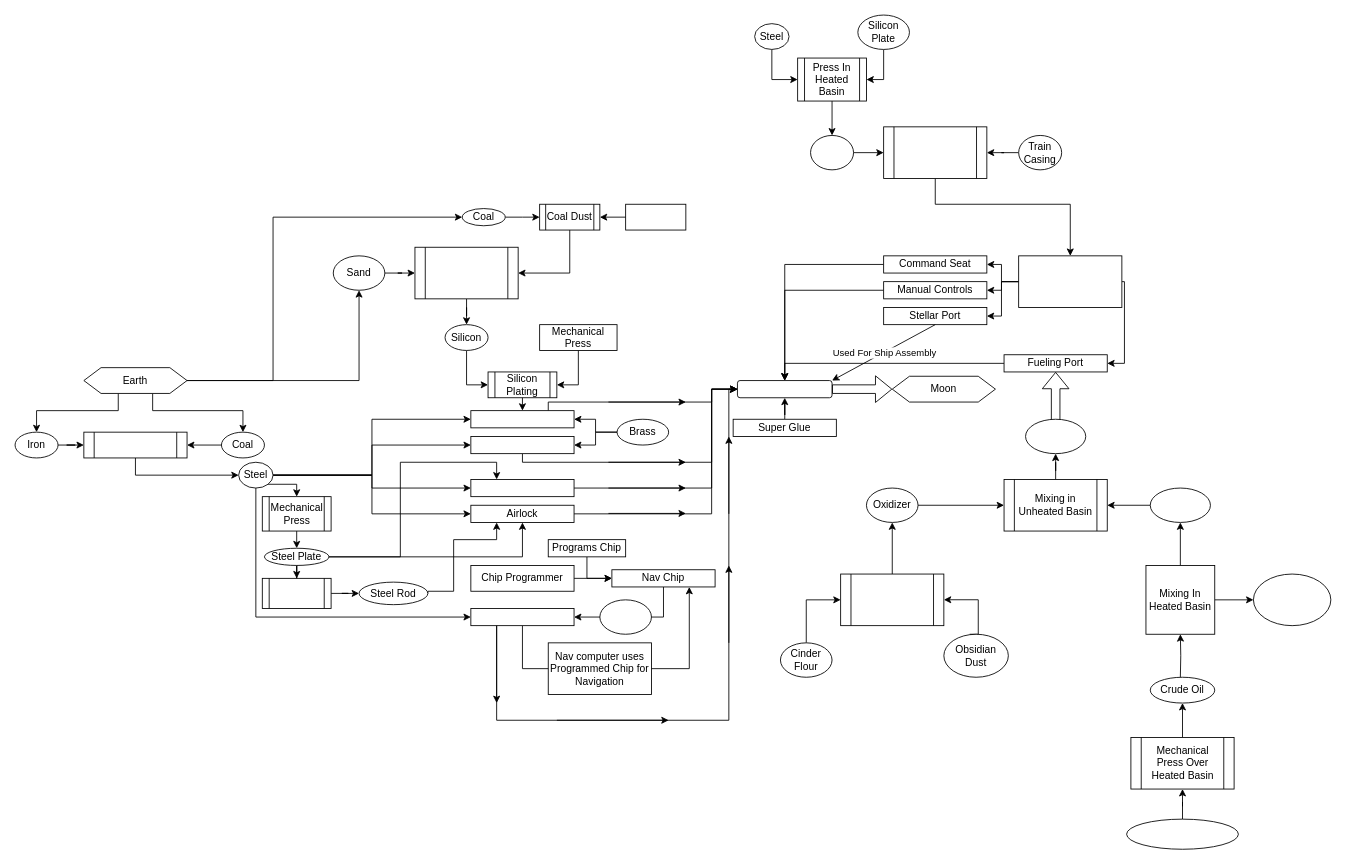
Some shapes in this 1346 by 864 pixel diagram are drawn without their labels. Each missing label, with the box of its shape:
Bone Meal or Bones: (1126, 818, 1238, 849)
Crushing Wheels: (625, 203, 686, 230)
First Ship: (737, 380, 832, 398)
Fuel Tanks: (470, 436, 574, 454)
Landing Gear: (470, 479, 574, 497)
Manual Application / Deployer: (883, 126, 987, 178)
Mechanical Saw: (261, 577, 331, 608)
Mix in Basin: (840, 573, 944, 626)
Mix In Heated Basin: (83, 431, 187, 458)
Mix In Heated Mechanical Mixer: (414, 246, 518, 299)
Nav. Computer: (470, 608, 574, 626)
Petroleum: (1149, 487, 1210, 522)
Pure Oil (Useful Later): (1253, 573, 1331, 626)
Rocket Fuel: (1025, 418, 1086, 454)
Stellar Casing: (1018, 255, 1122, 307)
Stellar Plating: (810, 135, 854, 170)
Thrusters: (470, 410, 574, 428)
Used to craft: (599, 599, 651, 634)
